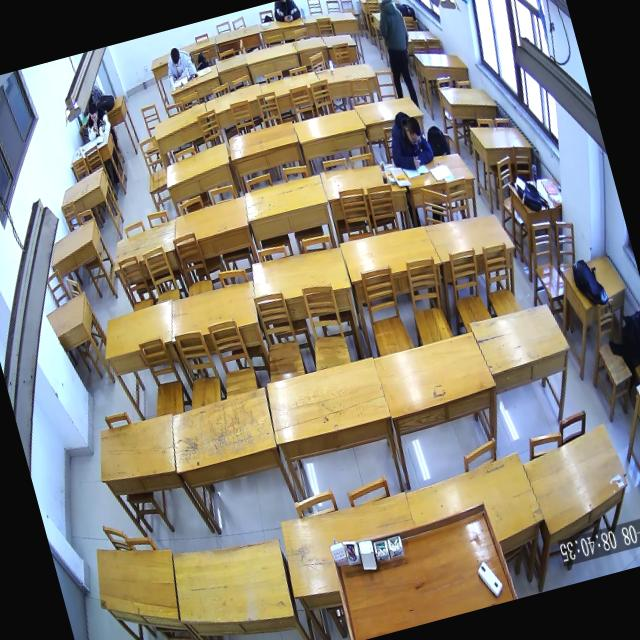bow: (381, 105, 436, 173)
down: (402, 115, 424, 146), (168, 46, 182, 68), (86, 101, 100, 122)
sit: (368, 0, 427, 113), (162, 42, 196, 82), (80, 100, 113, 140)
